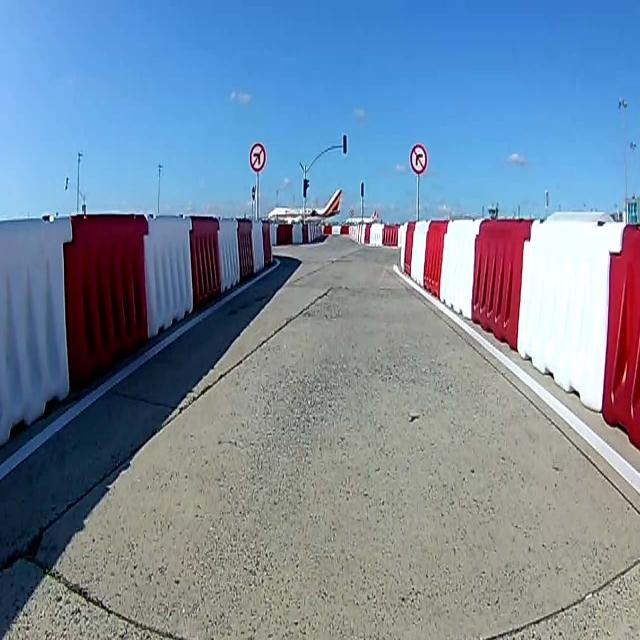sagadonulmez: (411, 145, 426, 170)
soladonulmez: (249, 140, 268, 174)
